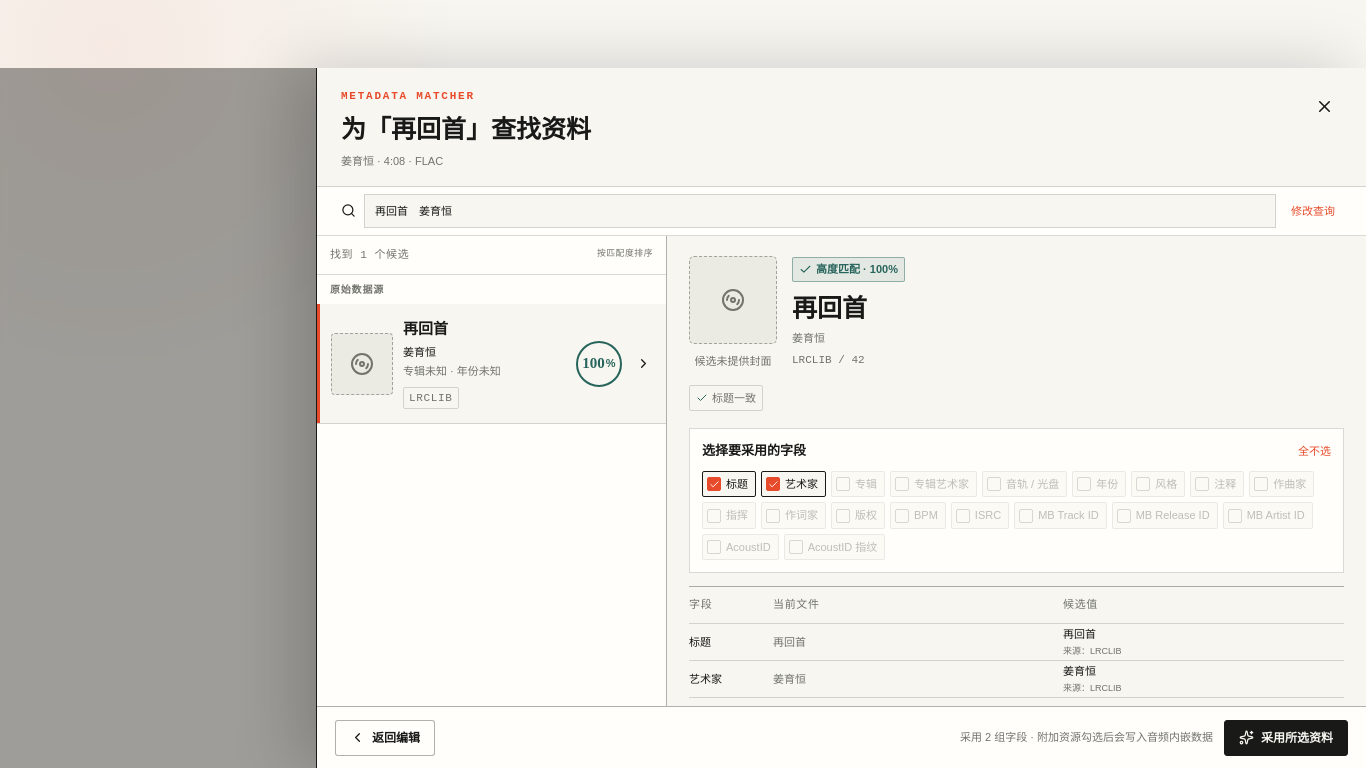
Scenario: toggles all available metadata fields off when the select-all control is clicked again
The width and height of the screenshot is (1366, 768).
Expected: the text "采用 2 组字段 · 附加资源勾选后会写入音频内嵌数据" is shown, [960,729,1213,746]
Click the button with aria-label "取消全选字段".
click(1314, 451)  # box [1298,441,1331,461]
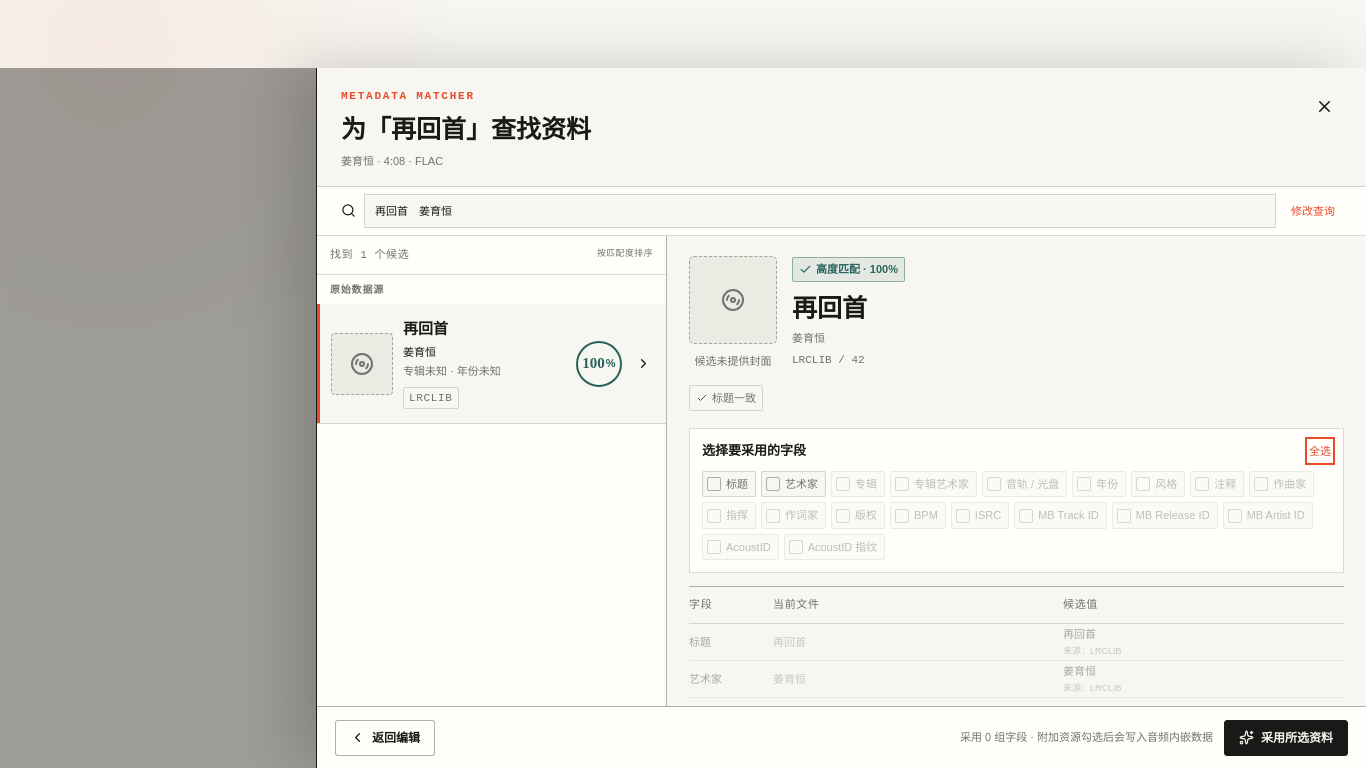
Now the text "采用 0 组字段 · 附加资源勾选后会写入音频内嵌数据" is shown, box [960,729,1213,746]
Now the button with aria-label "全选可用字段" is shown
Click the button with aria-label "全选可用字段".
click(1320, 451)  # box [1309,441,1331,461]
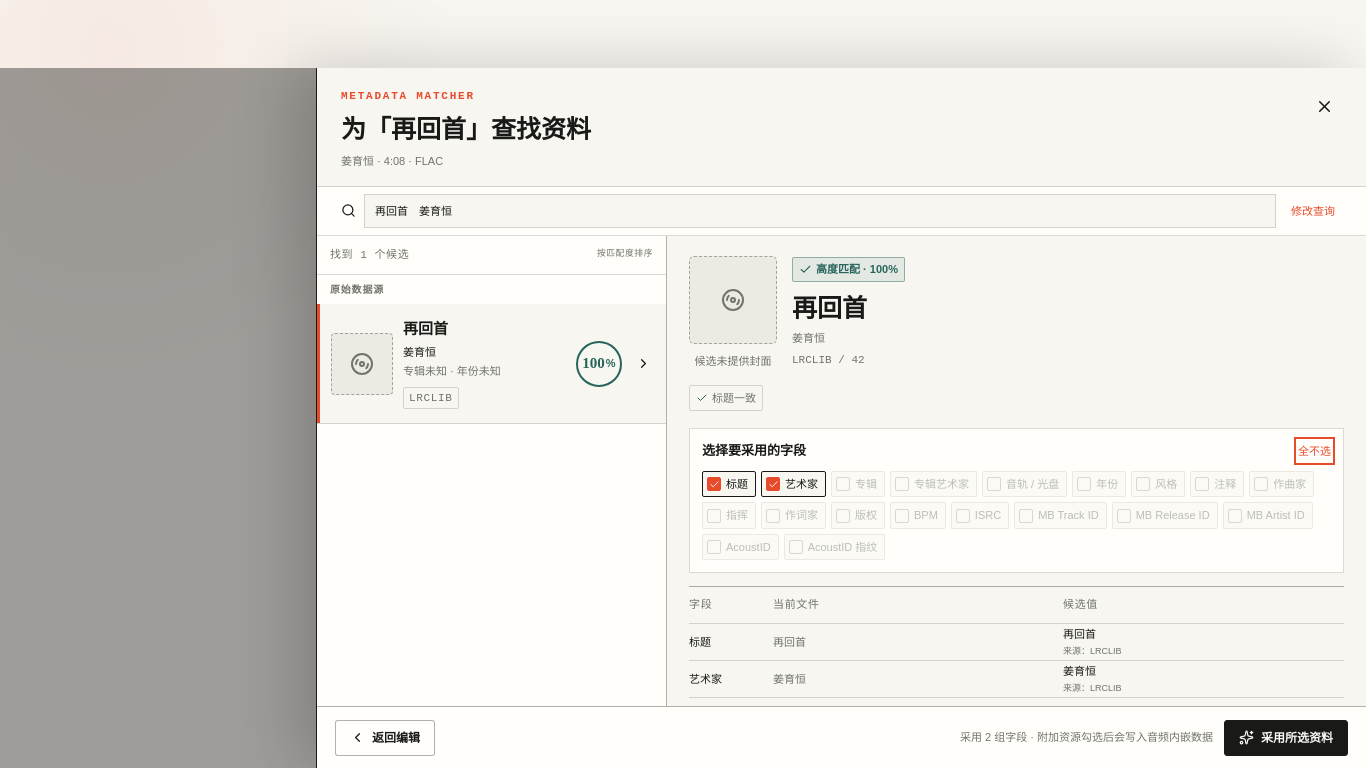
Now the text "采用 2 组字段 · 附加资源勾选后会写入音频内嵌数据" is shown, box [960,729,1213,746]
